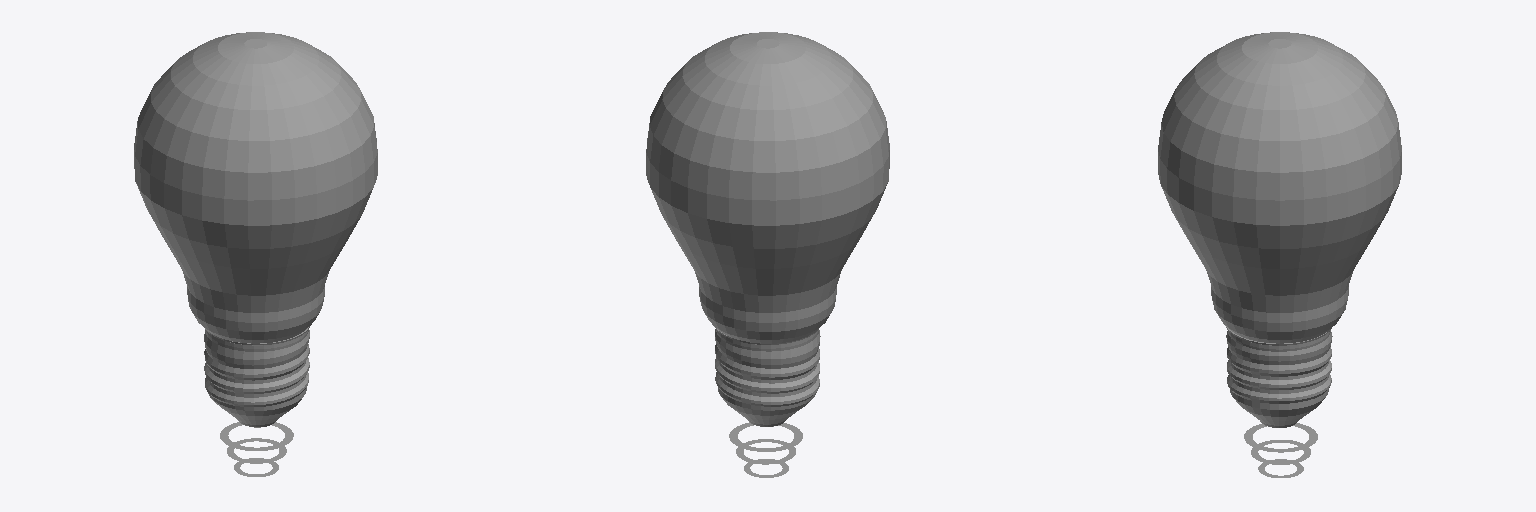
The model's file is Lightbulb.obj.
The picture shows the model from 3 angles: view 1: azimuth 30°, elevation 25°; view 2: azimuth 150°, elevation 25°; view 3: azimuth 270°, elevation 25°; orthographic projection.
Parts seen in each view (by area): view 1: Cylinder, Cylinder.001, Circle; view 2: Cylinder, Cylinder.001, Circle; view 3: Cylinder, Cylinder.001, Circle.
Part boxes in pixels (left/top/right/bottom): Cylinder: left=134, top=32, right=377, bottom=343; Cylinder.001: left=204, top=327, right=309, bottom=427; Circle: left=220, top=422, right=293, bottom=450; Cylinder: left=646, top=32, right=889, bottom=343; Cylinder.001: left=715, top=327, right=820, bottom=426; Circle: left=729, top=422, right=802, bottom=451; Cylinder: left=1158, top=32, right=1401, bottom=343; Cylinder.001: left=1226, top=326, right=1332, bottom=427; Circle: left=1244, top=423, right=1317, bottom=452.
Bounding box in the file's own units: 0.7463 × 1.43 × 0.7463.